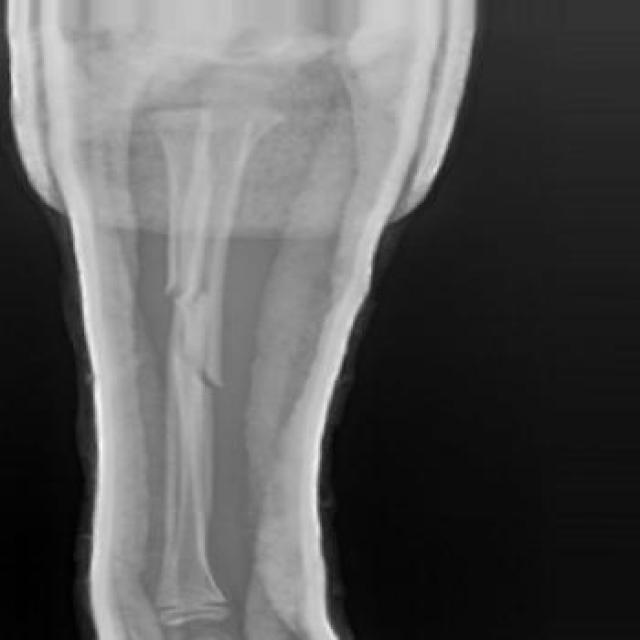Fracture: (150, 273, 247, 392)
